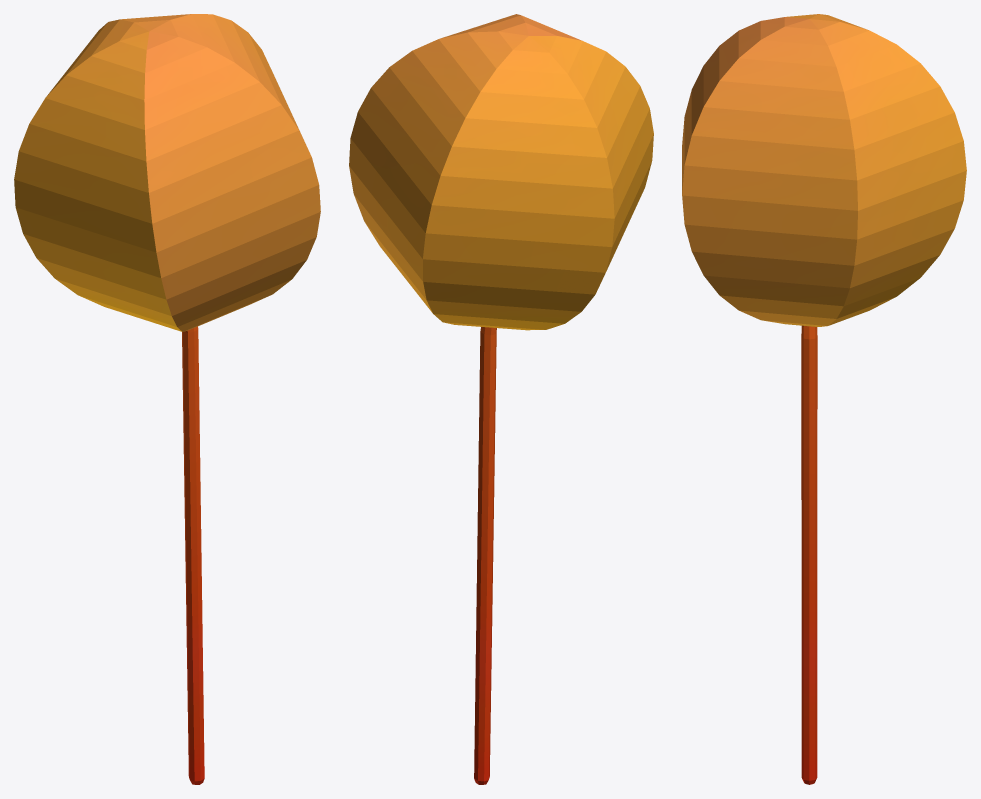
File: Tree_10.fbx
3 renders of one model, left to right at view 1: azimuth 30°, elevation 25°; view 2: azimuth 150°, elevation 25°; view 3: azimuth 270°, elevation 25°, orthographic. The views are drawn at different scales.
Visible parts, largest first — view 1: Tree_10; view 2: Tree_10; view 3: Tree_10.
Part boxes in pixels (x1=…): Tree_10: x1=14, y1=14, x2=320, y2=784; Tree_10: x1=349, y1=14, x2=653, y2=784; Tree_10: x1=682, y1=14, x2=966, y2=784.
Bounding box in the file's own units: 167 × 459 × 159.
1 material, 1 textured.
